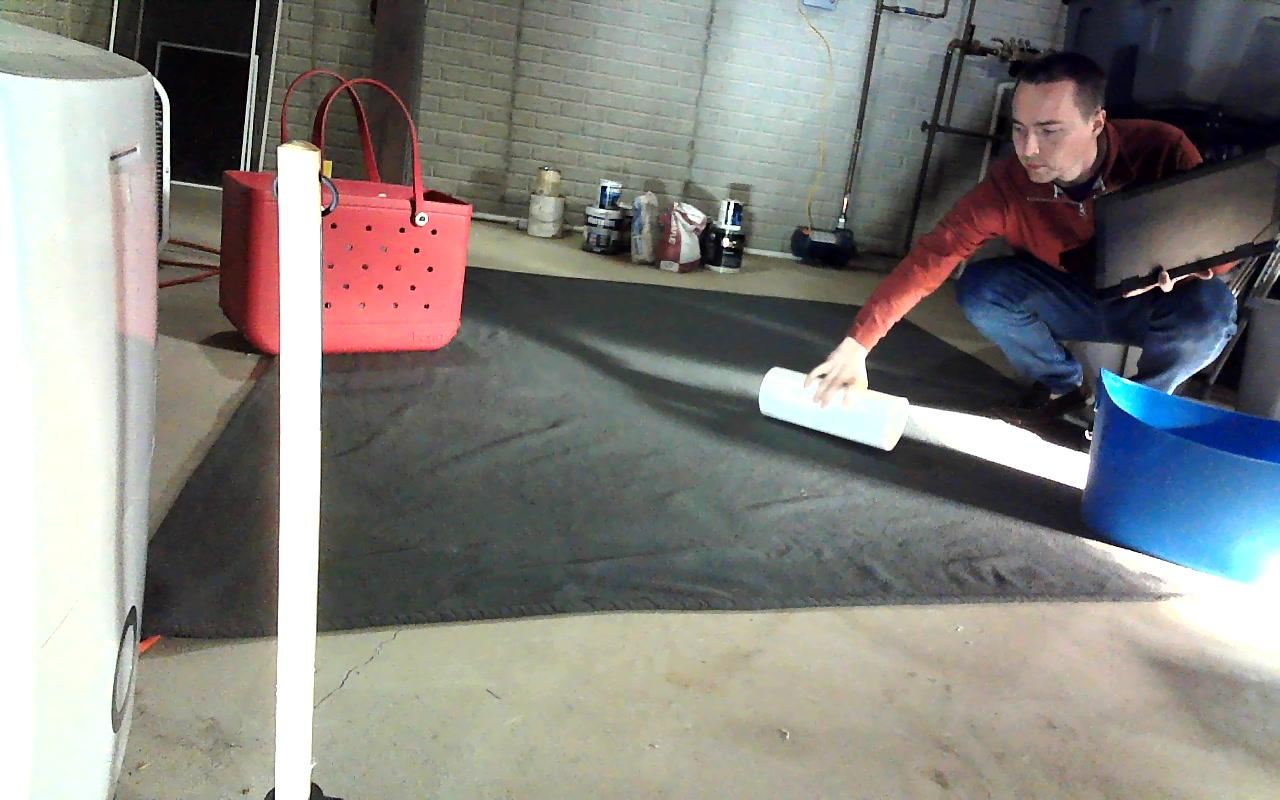coral: (758, 369, 908, 451)
